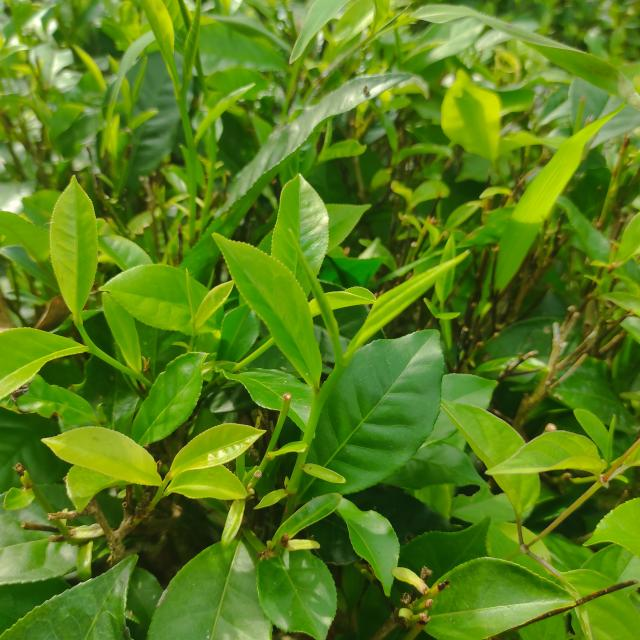unopened_leaf: (283, 220, 347, 370), (176, 0, 208, 90), (180, 261, 204, 336), (600, 406, 623, 471)
